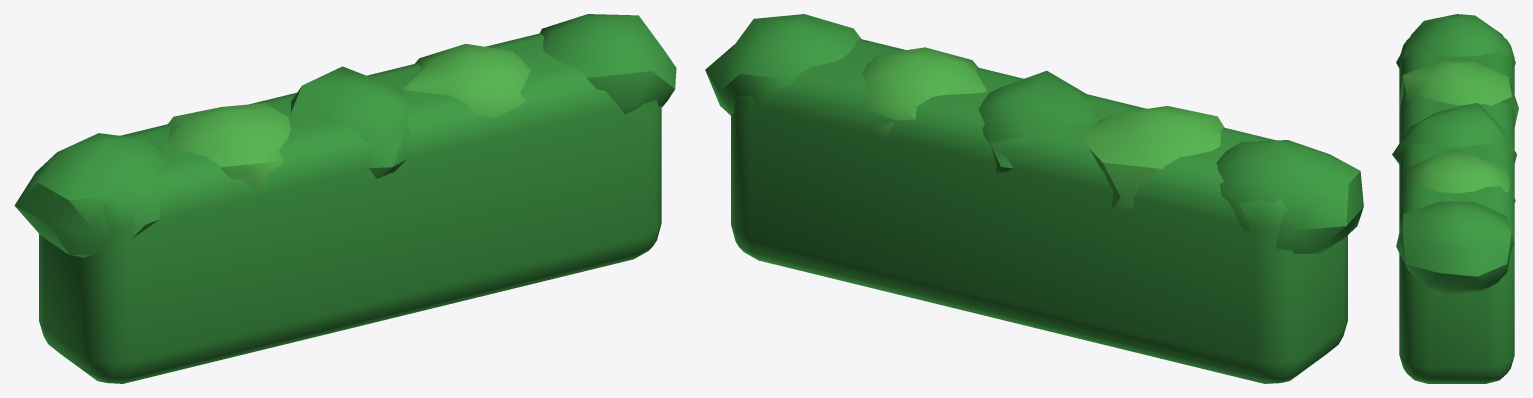
The model's file is PropHedge.fbx.
3 renders of one model, left to right at view 1: azimuth 30°, elevation 25°; view 2: azimuth 150°, elevation 25°; view 3: azimuth 270°, elevation 25°, orthographic. The views are drawn at different scales.
Parts seen in each view (by area): view 1: Leaf, LeafLight; view 2: Leaf, LeafLight; view 3: Leaf, LeafLight.
Boxes of the visible parts, bbox=[...] form: Leaf: bbox=[14, 14, 676, 383]; LeafLight: bbox=[168, 43, 530, 194]; Leaf: bbox=[705, 14, 1363, 383]; LeafLight: bbox=[862, 47, 1224, 210]; Leaf: bbox=[1392, 14, 1516, 383]; LeafLight: bbox=[1399, 60, 1518, 202].
Size of the model in its own units: 900 by 298 by 198.
